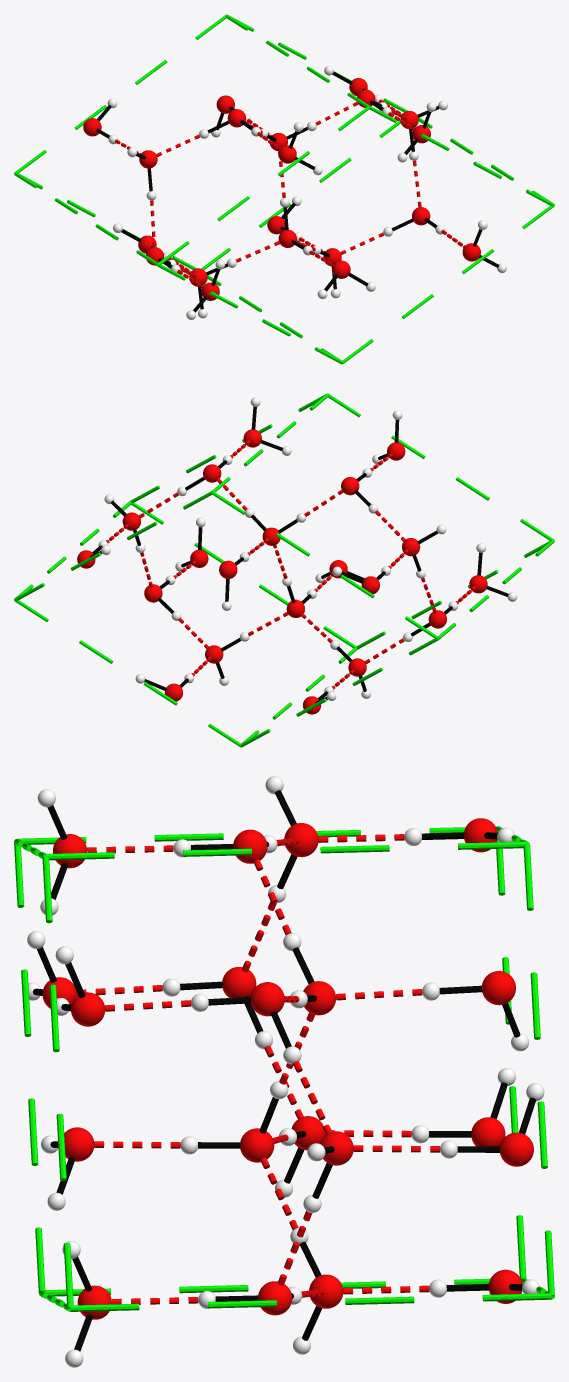
Rendered from Eis2.glb.
The picture shows the model from 3 angles, top to bottom: view 1: azimuth 30°, elevation 25°; view 2: azimuth 150°, elevation 25°; view 3: azimuth 270°, elevation 25°; orthographic projection. The views are drawn at different scales.
Size of the model in its own units: 0.1359 by 0.0765 by 0.0802.
